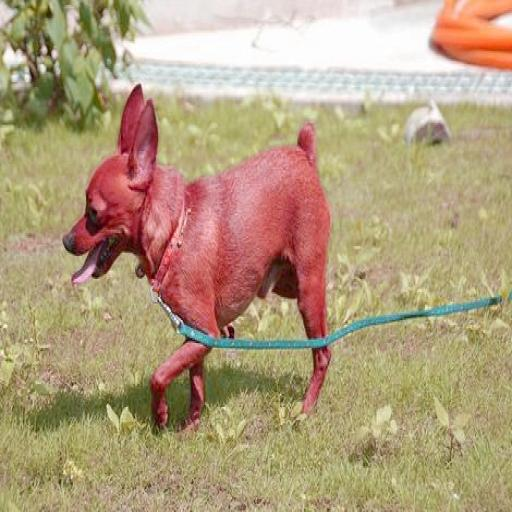dog_face: (65, 96, 158, 291)
